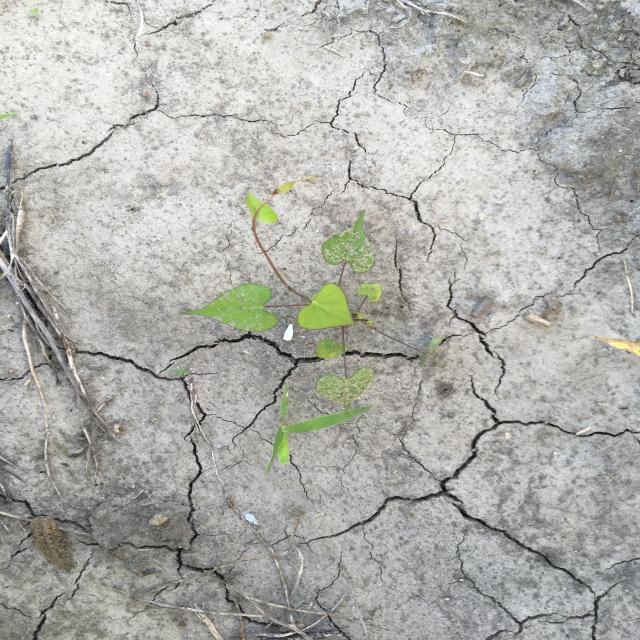MorningGlory: (178, 168, 446, 411)
